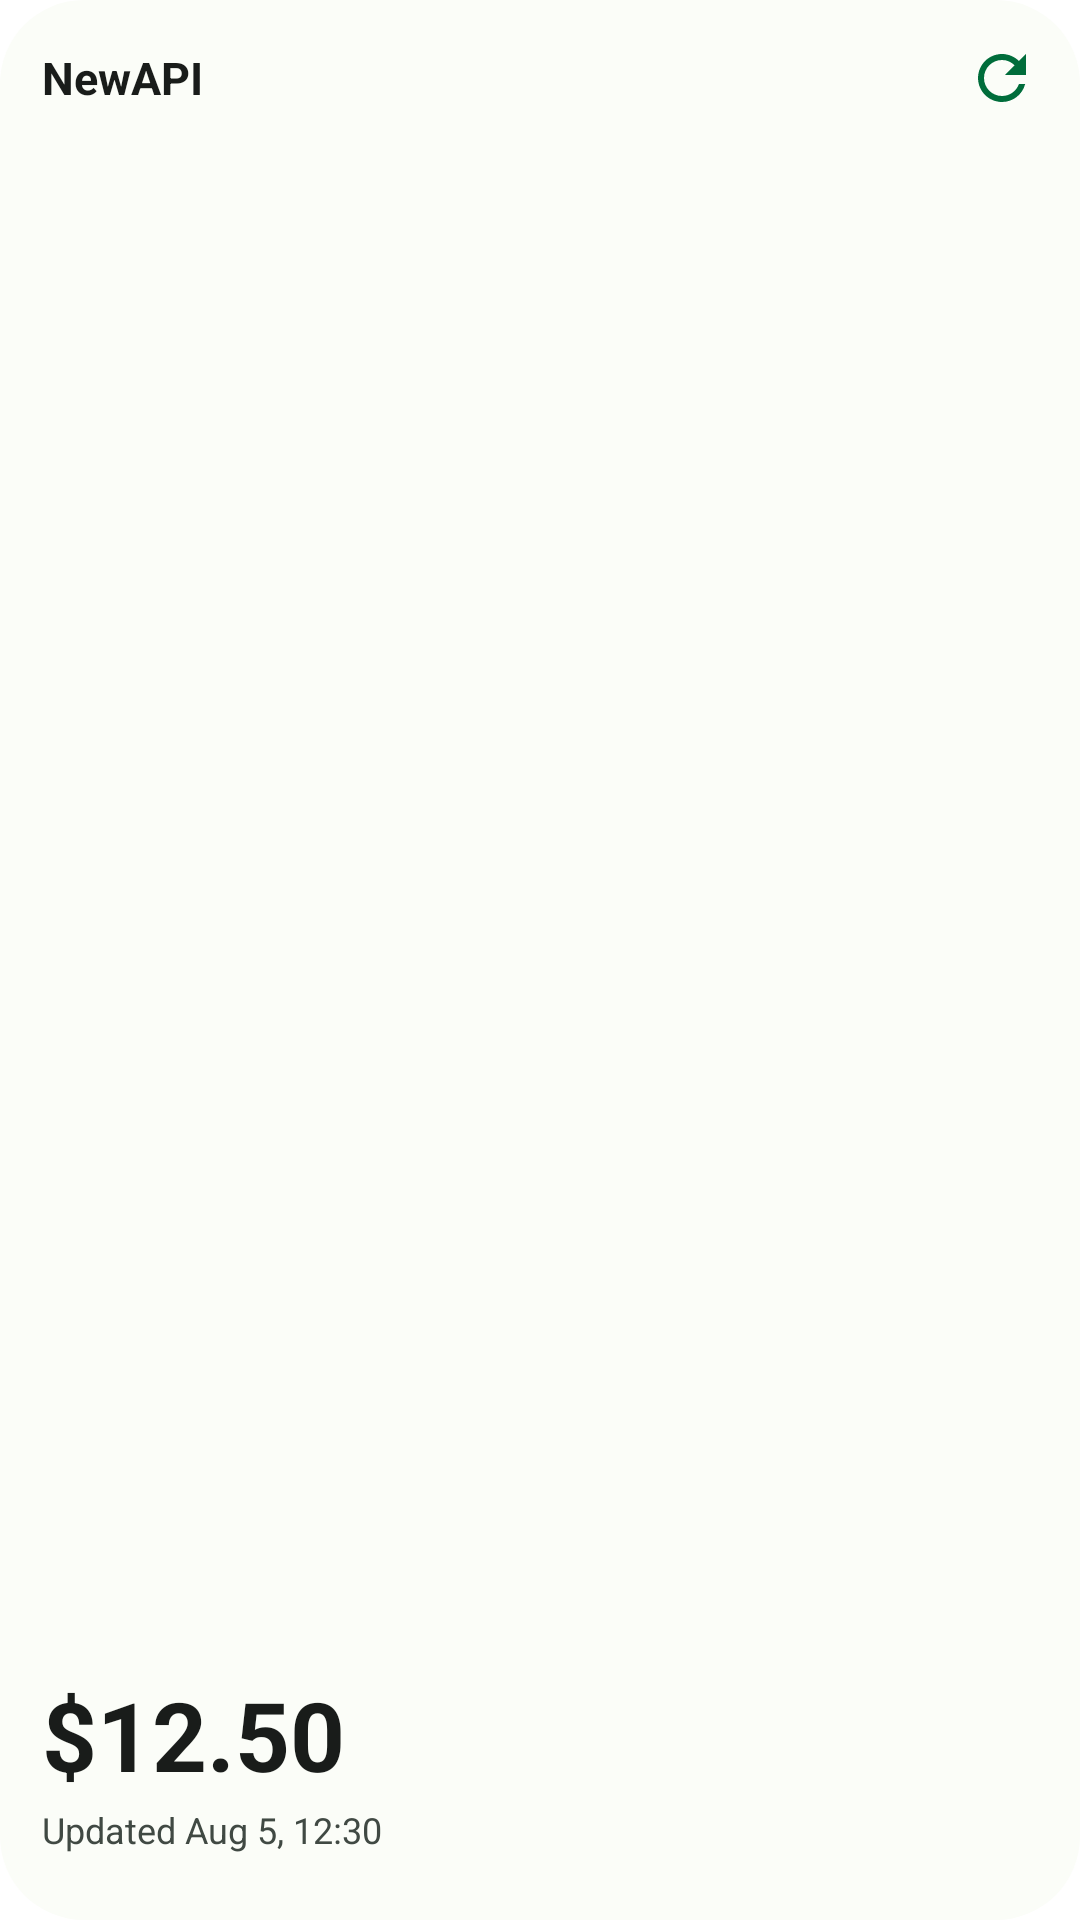

Screen size 1080×1920. Icon name, then its center in pixels as (x,y):
refresh: (1002,78)
